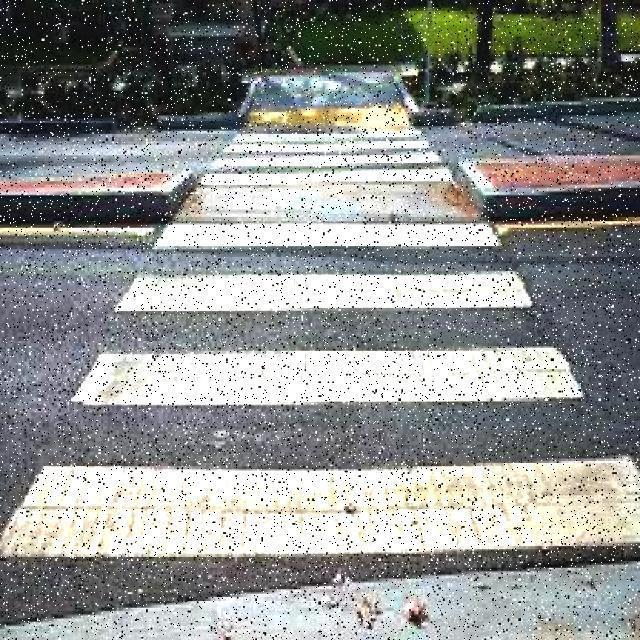crosswalk: (1, 223, 640, 556), (205, 126, 457, 186)
